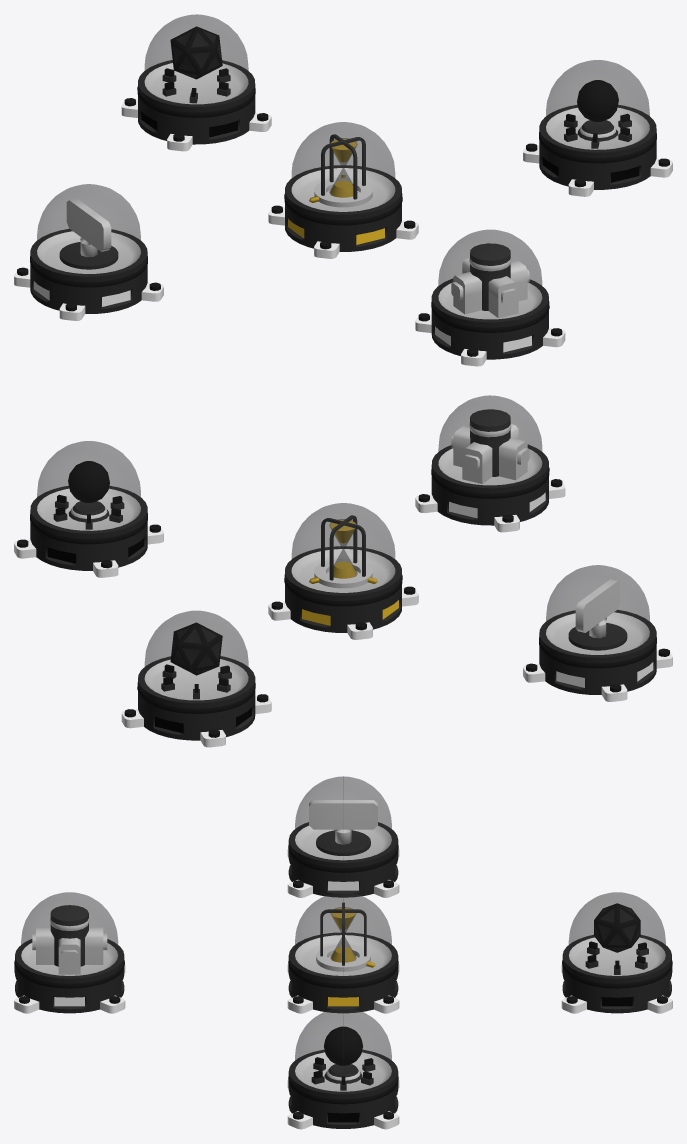
File: items.dae
3 views of the same model, one above another, from view 1: azimuth 30°, elevation 25°; view 2: azimuth 150°, elevation 25°; view 3: azimuth 270°, elevation 25° (orthographic). The views are drawn at different scales.
Visible parts, largest first — view 1: chronoitem_shield, chronoitem_grav, chronoitem_magneticgrav, chronoitem_time, chronoitem_windup; view 2: chronoitem_grav, chronoitem_shield, chronoitem_magneticgrav, chronoitem_time, chronoitem_windup; view 3: chronoitem_windup, chronoitem_time, chronoitem_magneticgrav, chronoitem_shield, chronoitem_grav.
Part boxes in pixels (x1,y1,x2,y2): chronoitem_shield: [121, 14, 271, 151]; chronoitem_grav: [415, 229, 565, 366]; chronoitem_magneticgrav: [523, 60, 672, 196]; chronoitem_time: [268, 122, 418, 258]; chronoitem_windup: [14, 184, 163, 320]; chronoitem_grav: [415, 395, 565, 532]; chronoitem_shield: [121, 610, 271, 747]; chronoitem_magneticgrav: [14, 441, 163, 577]; chronoitem_time: [268, 503, 418, 639]; chronoitem_windup: [523, 565, 672, 701]; chronoitem_windup: [287, 776, 399, 897]; chronoitem_time: [287, 892, 399, 1013]; chronoitem_magneticgrav: [287, 1008, 399, 1129]; chronoitem_shield: [561, 892, 672, 1013]; chronoitem_grav: [14, 892, 125, 1013].
Bounding box in the file's own units: 2.41 × 2.41 × 0.3772.
Materials: 5 (2 with a texture image).
